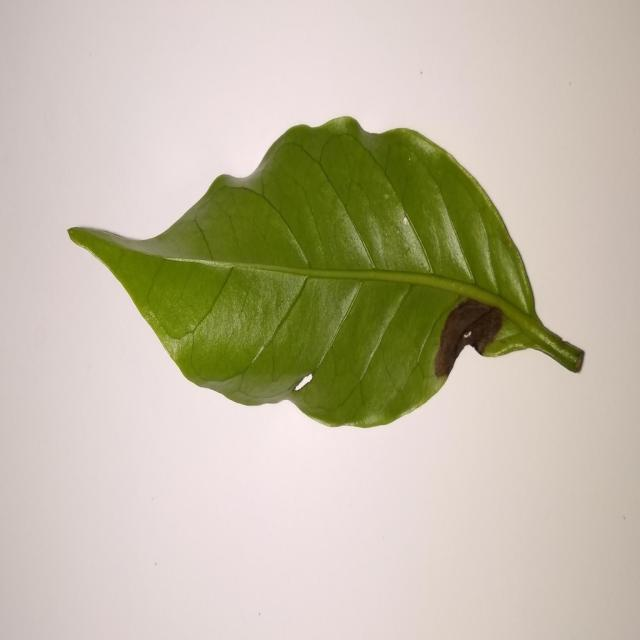phoma: (434, 298, 503, 379)
